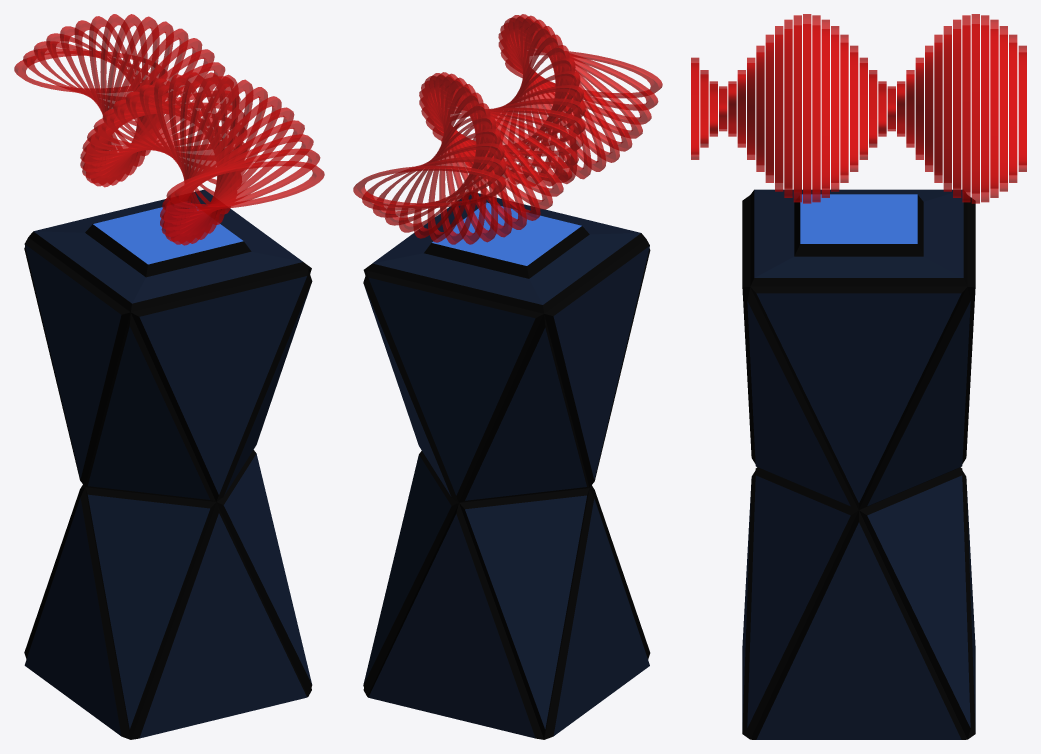
File: parametric_helix.FBX
3 renders of one model, left to right at view 1: azimuth 30°, elevation 25°; view 2: azimuth 150°, elevation 25°; view 3: azimuth 270°, elevation 25°, orthographic. The views are drawn at different scales.
Visible parts, largest first — view 1: Pedestal005, parametric_helix; view 2: Pedestal005, parametric_helix; view 3: Pedestal005, parametric_helix.
Boxes of the visible parts, x1=… form: Pedestal005: x1=24, y1=189, x2=312, y2=739; parametric_helix: x1=14, y1=14, x2=324, y2=245; Pedestal005: x1=363, y1=193, x2=650, y2=739; parametric_helix: x1=353, y1=14, x2=662, y2=244; Pedestal005: x1=742, y1=189, x2=975, y2=739; parametric_helix: x1=691, y1=14, x2=1026, y2=203.
Bounding box in the file's own units: 53.65 × 170 × 77.26.
